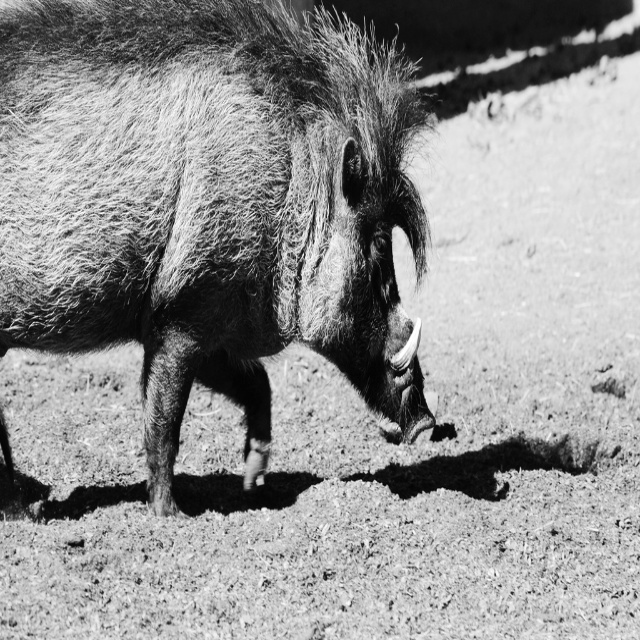Pig: (0, 0, 450, 517)
